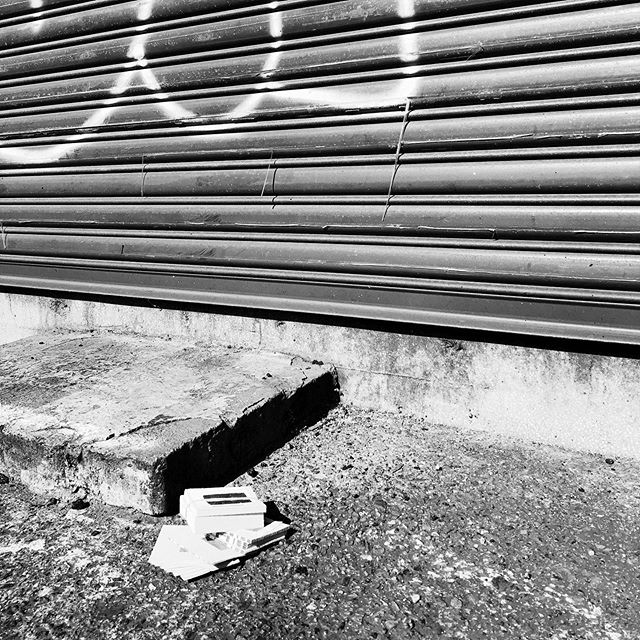graffiti: (1, 1, 432, 156)
trash: (121, 433, 326, 610)
